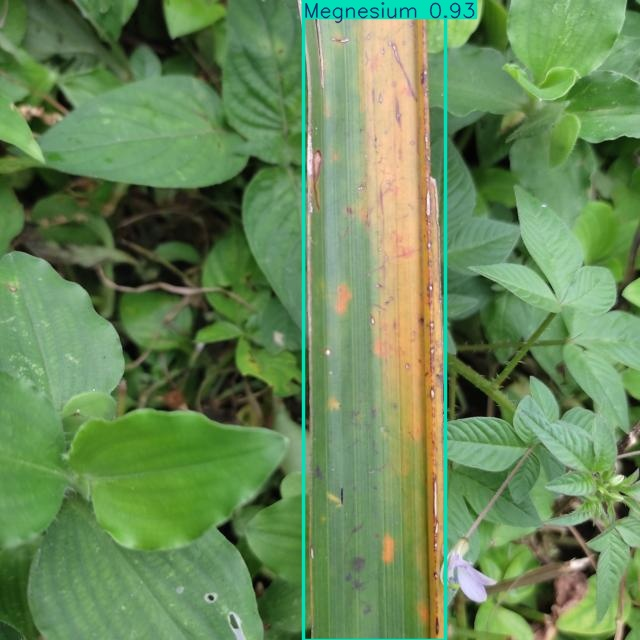Megnesium: (303, 0, 445, 640)
